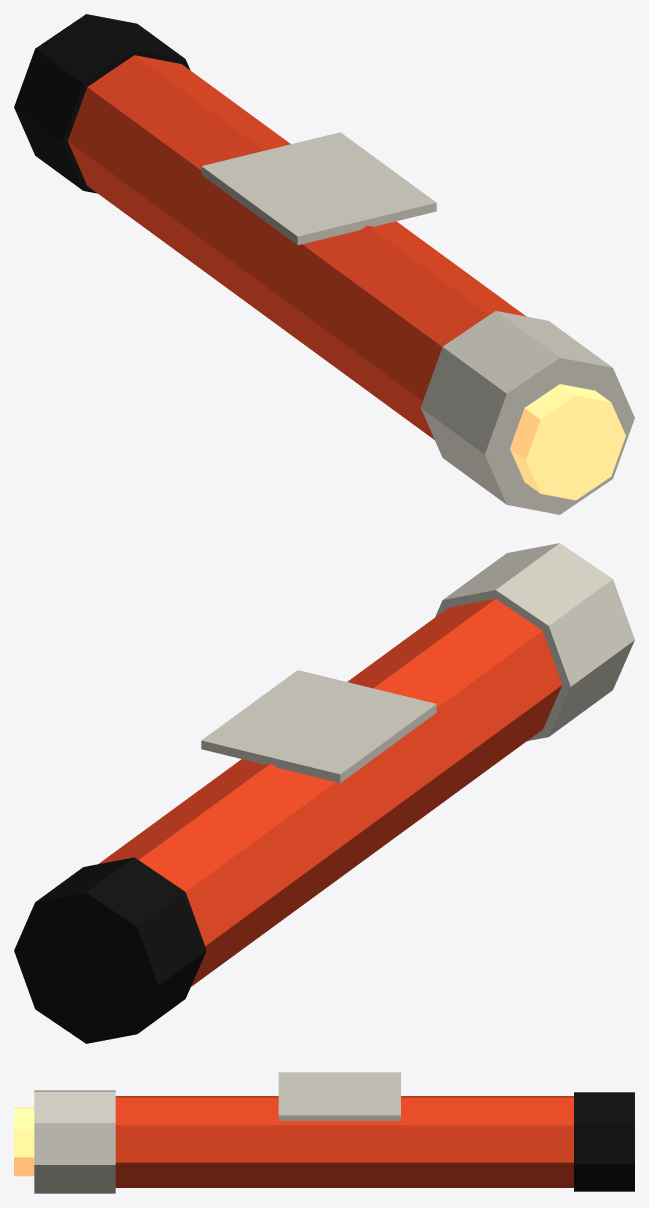
The model's file is tool_flare.fbx.
3 renders of one model, top to bottom at view 1: azimuth 30°, elevation 25°; view 2: azimuth 150°, elevation 25°; view 3: azimuth 270°, elevation 25°, orthographic. The views are drawn at different scales.
Visible parts, largest first — view 1: tool_flare; view 2: tool_flare; view 3: tool_flare.
Part boxes in pixels (<box>): tool_flare: <box>14,14,634,514</box>; tool_flare: <box>14,543,634,1043</box>; tool_flare: <box>14,1072,634,1193</box>.
Bounding box in the file's own units: 0.054 × 0.054 × 0.305.
Materials: 1 (1 with a texture image).
